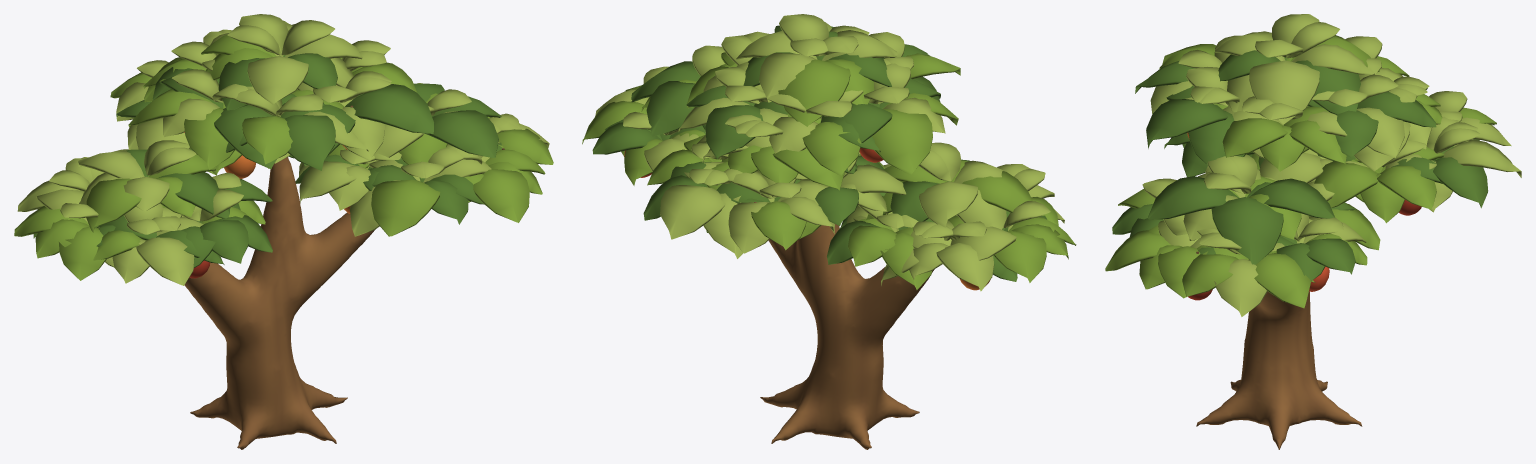
Rendered from fruit.glb.
3 views of the same model, side by side, from view 1: azimuth 30°, elevation 25°; view 2: azimuth 150°, elevation 25°; view 3: azimuth 270°, elevation 25° (orthographic).
Visible parts, largest first — view 1: fruit · airy crown, fruit · slender forked trunk; view 2: fruit · airy crown, fruit · slender forked trunk; view 3: fruit · airy crown, fruit · slender forked trunk.
Boxes of the visible parts, x1=… form: fruit · airy crown: x1=14, y1=14, x2=553, y2=285; fruit · slender forked trunk: x1=184, y1=157, x2=375, y2=449; fruit · airy crown: x1=582, y1=14, x2=1076, y2=291; fruit · slender forked trunk: x1=760, y1=224, x2=934, y2=449; fruit · airy crown: x1=1105, y1=14, x2=1521, y2=316; fruit · slender forked trunk: x1=1196, y1=291, x2=1362, y2=449.
Bounding box in the file's own units: 3.71 × 2.83 × 2.7.
